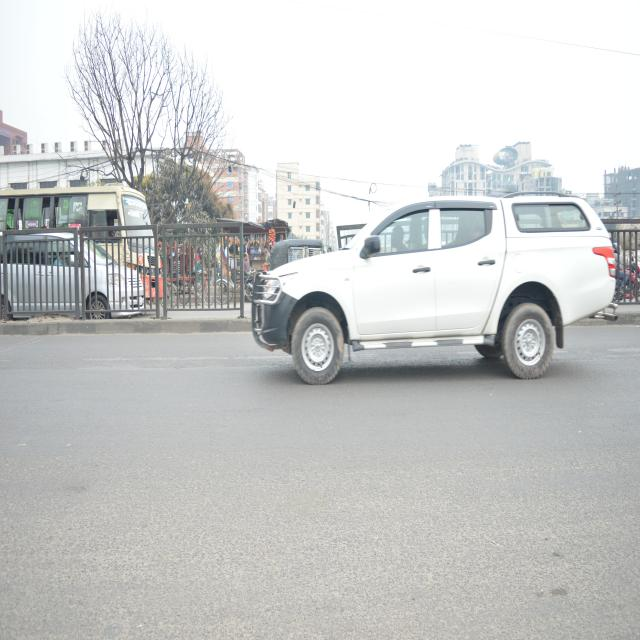bus: (1, 177, 162, 346)
microbus: (250, 185, 620, 388)
motorbike: (612, 245, 640, 328)
